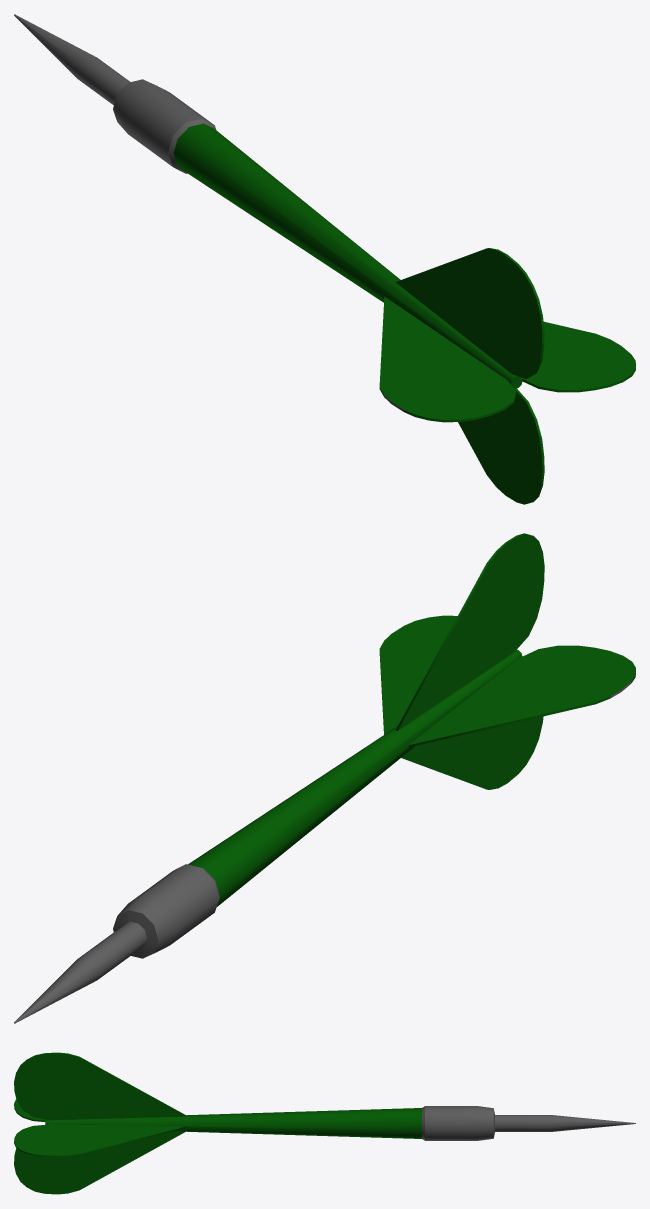
File: Dart_Green.FBX
3 views of the same model, one above another, from view 1: azimuth 30°, elevation 25°; view 2: azimuth 150°, elevation 25°; view 3: azimuth 270°, elevation 25° (orthographic). The views are drawn at different scales.
Parts seen in each view (by area): view 1: Dart_Green; view 2: Dart_Green; view 3: Dart_Green.
Part boxes in pixels (box(x1,y1,x2,y2)): Dart_Green: box(14, 14, 635, 504); Dart_Green: box(14, 533, 635, 1023); Dart_Green: box(14, 1052, 635, 1194).
Bounding box in the file's own units: 0.0358 × 0.0358 × 0.1428.
